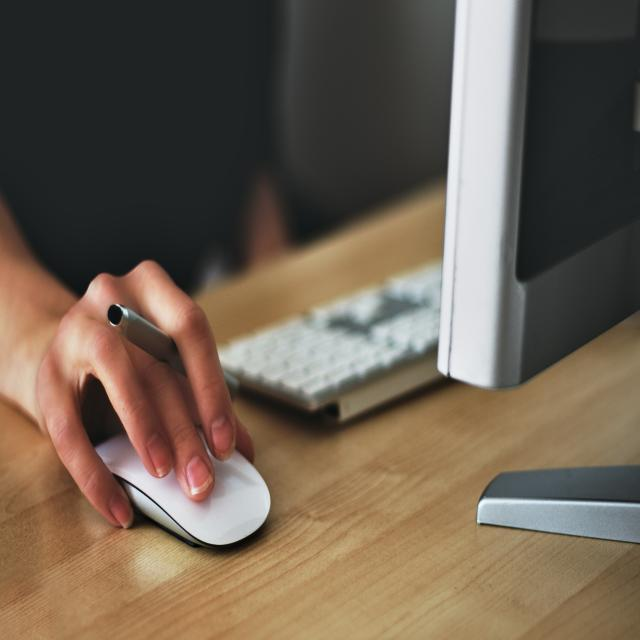computer: (206, 26, 616, 459)
